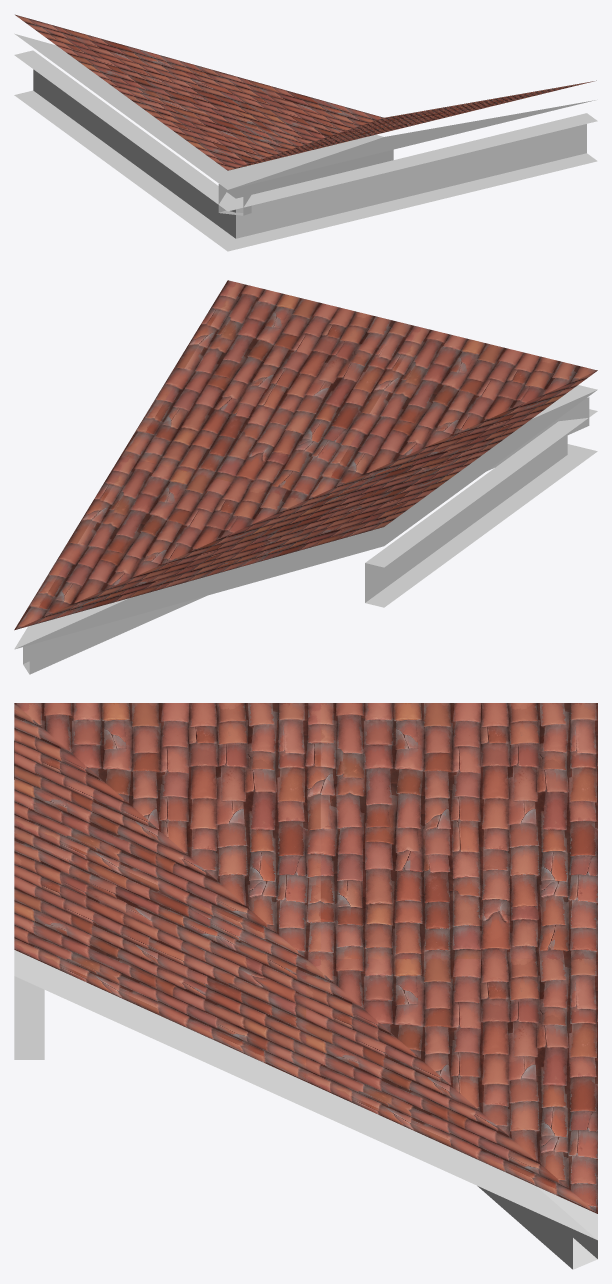
The model's file is WallKit_Valley_LOD2.fbx.
The picture shows the model from 3 angles, top to bottom: view 1: azimuth 30°, elevation 25°; view 2: azimuth 150°, elevation 25°; view 3: azimuth 270°, elevation 25°; orthographic projection. The views are drawn at different scales.
Parts seen in each view (by area): view 1: WallKit_Valley_LOD2; view 2: WallKit_Valley_LOD2; view 3: WallKit_Valley_LOD2.
Part boxes in pixels (box(x1,y1,x2,y2)): WallKit_Valley_LOD2: box(14, 14, 597, 251); WallKit_Valley_LOD2: box(14, 280, 597, 674); WallKit_Valley_LOD2: box(14, 703, 597, 1269).
Bounding box in the file's own units: 401 × 242 × 400.
